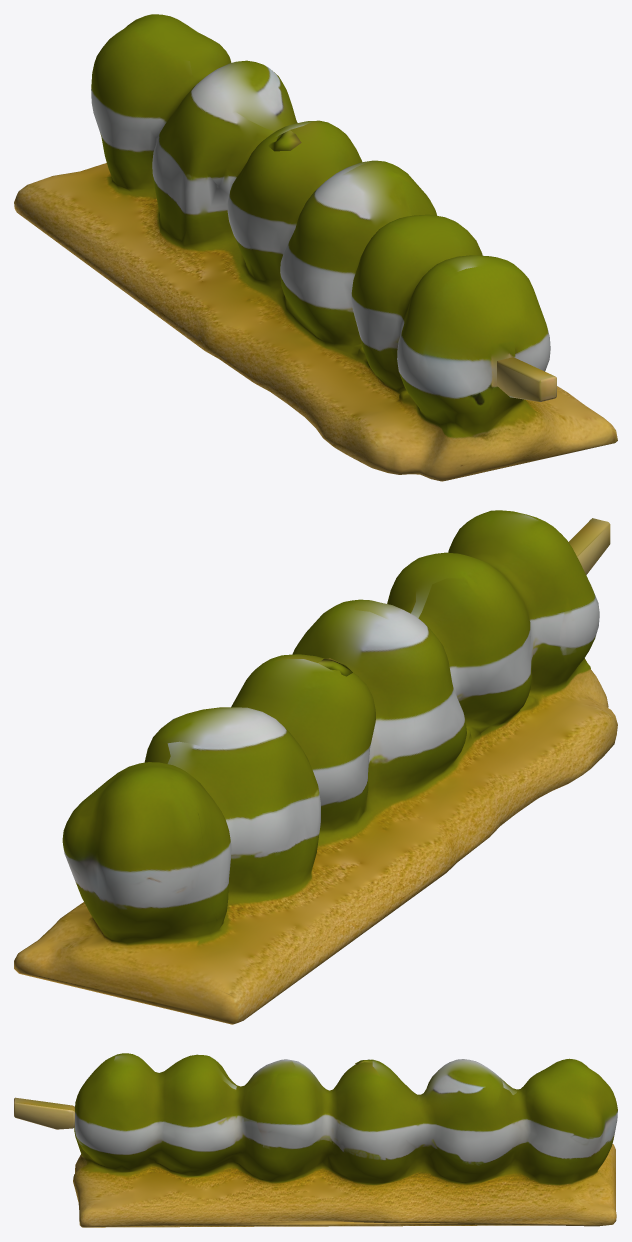
File: 糖葫芦.fbx
3 renders of one model, top to bottom at view 1: azimuth 30°, elevation 25°; view 2: azimuth 150°, elevation 25°; view 3: azimuth 270°, elevation 25°, orthographic. The views are drawn at different scales.
Parts seen in each view (by area): view 1: texture_pbr_v128; view 2: texture_pbr_v128; view 3: texture_pbr_v128.
Boxes of the visible parts, bbox=[...] form: texture_pbr_v128: bbox=[14, 14, 617, 481]; texture_pbr_v128: bbox=[14, 510, 617, 1024]; texture_pbr_v128: bbox=[14, 1053, 617, 1227].
Bounding box in the file's own units: 32.99 × 27.27 × 114.
1 material, 1 textured.
